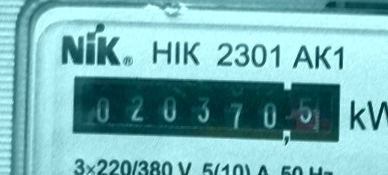0: (260, 101, 279, 132), (93, 95, 111, 124), (161, 95, 177, 123)
2: (127, 94, 146, 125)
3: (194, 94, 211, 125)
5: (296, 95, 315, 127)
7: (227, 101, 243, 132)
screen: (64, 70, 348, 152)
